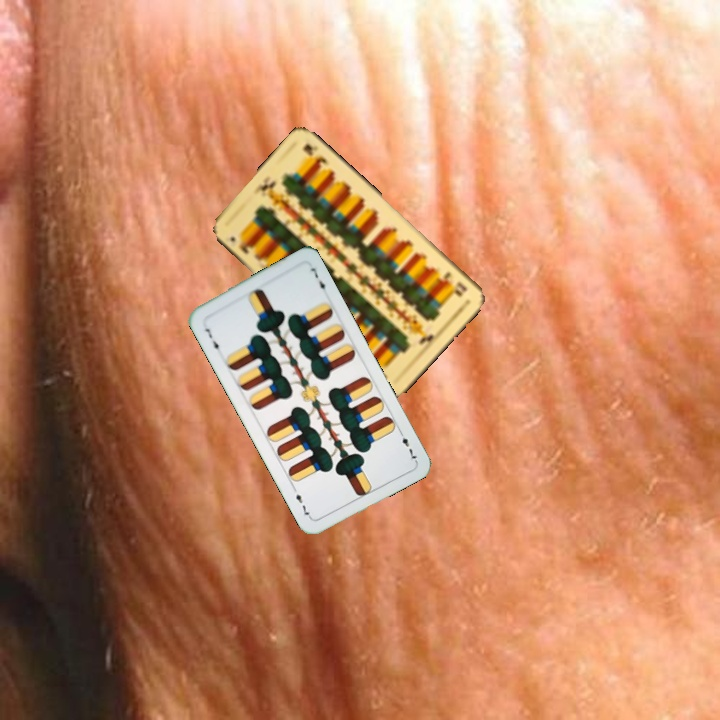E10: (439, 268, 470, 297), (226, 233, 254, 257)
E7: (395, 426, 419, 464), (201, 323, 222, 356)
